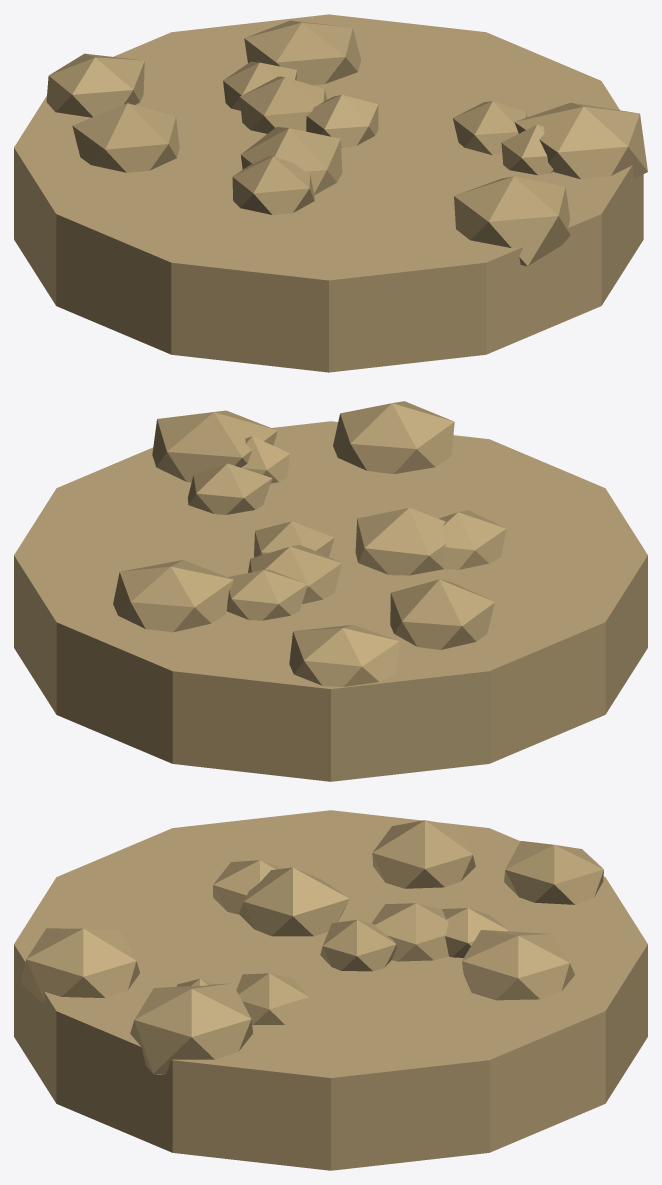
Rendered from filter-sand.glb.
3 views of the same model, one above another, from view 1: azimuth 30°, elevation 25°; view 2: azimuth 150°, elevation 25°; view 3: azimuth 270°, elevation 25° (orthographic).
Visible parts, largest first — view 1: filter-sand; view 2: filter-sand; view 3: filter-sand.
Boxes of the visible parts, x1,y1,x2,y2 form: filter-sand: [14, 14, 647, 372]; filter-sand: [14, 401, 647, 781]; filter-sand: [14, 810, 647, 1170].
Size of the model in its own units: 0.62 by 0.152 by 0.62.
